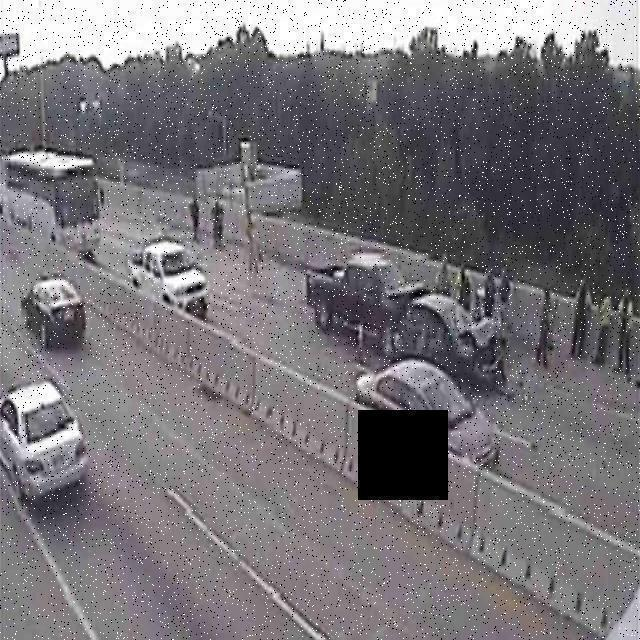accident: (304, 245, 511, 392)
